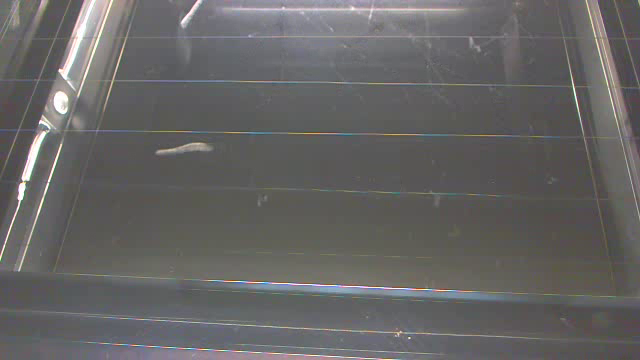Alfa: (143, 140, 216, 156), (179, 1, 203, 30)
